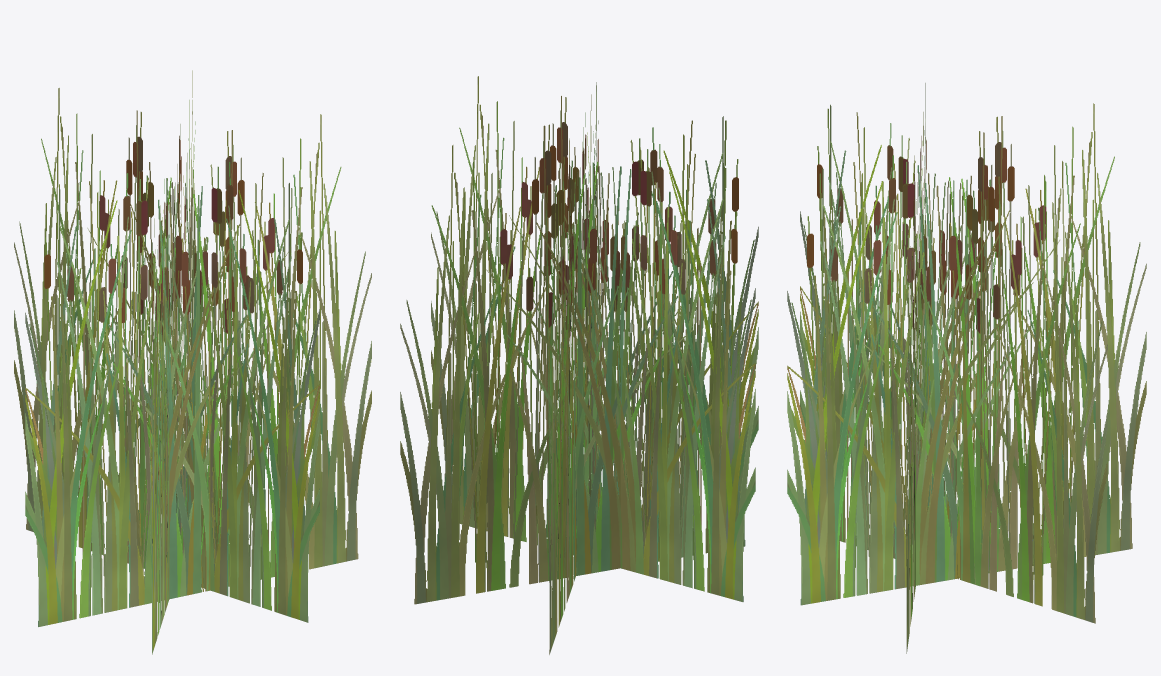
File: Reed_1_LOD1.gltf
The picture shows the model from 3 angles, left to right: view 1: azimuth 30°, elevation 25°; view 2: azimuth 150°, elevation 25°; view 3: azimuth 270°, elevation 25°; orthographic projection.
Visible parts, largest first — view 1: Reed_1_LOD1; view 2: Reed_1_LOD1; view 3: Reed_1_LOD1.
Boxes of the visible parts, <box> form: Reed_1_LOD1: <box>14,70,371,654</box>; Reed_1_LOD1: <box>400,76,758,654</box>; Reed_1_LOD1: <box>787,83,1146,653</box>.
Bounding box in the file's own units: 1.4 × 1.93 × 1.3.
1 material, 1 textured.
